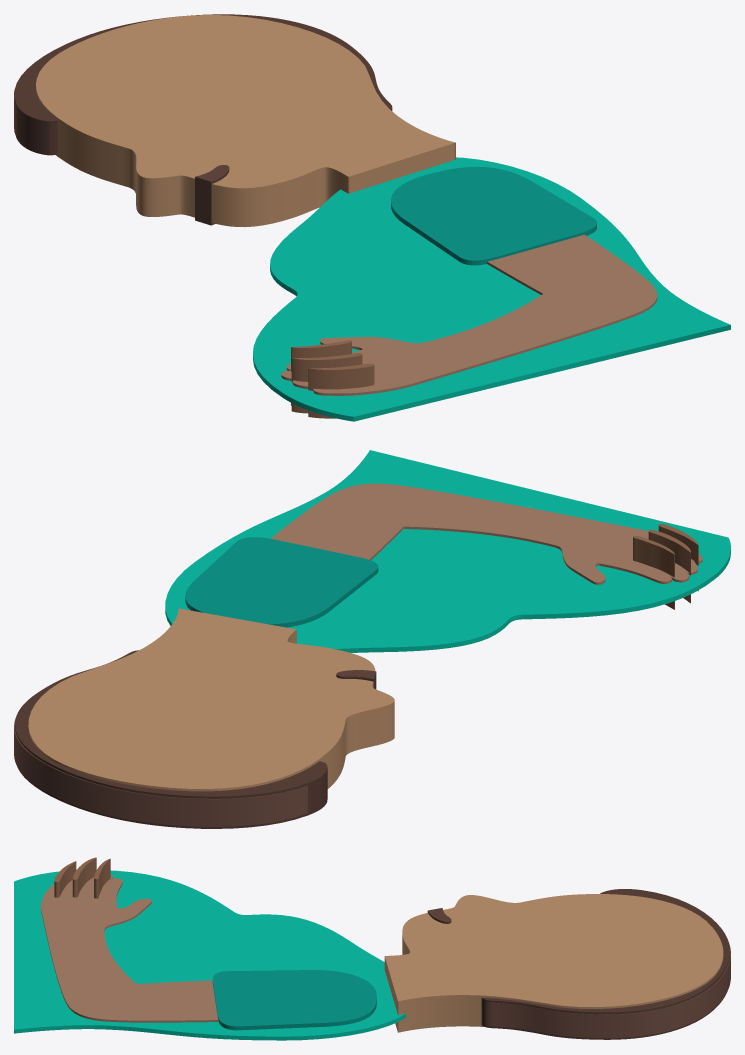
File: emoji_u1fac3_1f3fd.glb
3 renders of one model, top to bottom at view 1: azimuth 30°, elevation 25°; view 2: azimuth 150°, elevation 25°; view 3: azimuth 270°, elevation 25°, orthographic. The views are drawn at different scales.
Parts seen in each view (by area): view 1: emoji_u1fac3_1f3fd; view 2: emoji_u1fac3_1f3fd; view 3: emoji_u1fac3_1f3fd.
Boxes of the visible parts, box(x1,y1,x2,y2) form: emoji_u1fac3_1f3fd: box(14, 14, 730, 421); emoji_u1fac3_1f3fd: box(14, 450, 730, 828); emoji_u1fac3_1f3fd: box(14, 857, 730, 1040).
Bounding box in the file's own units: 0.0182 × 0.0024 × 0.0332.
